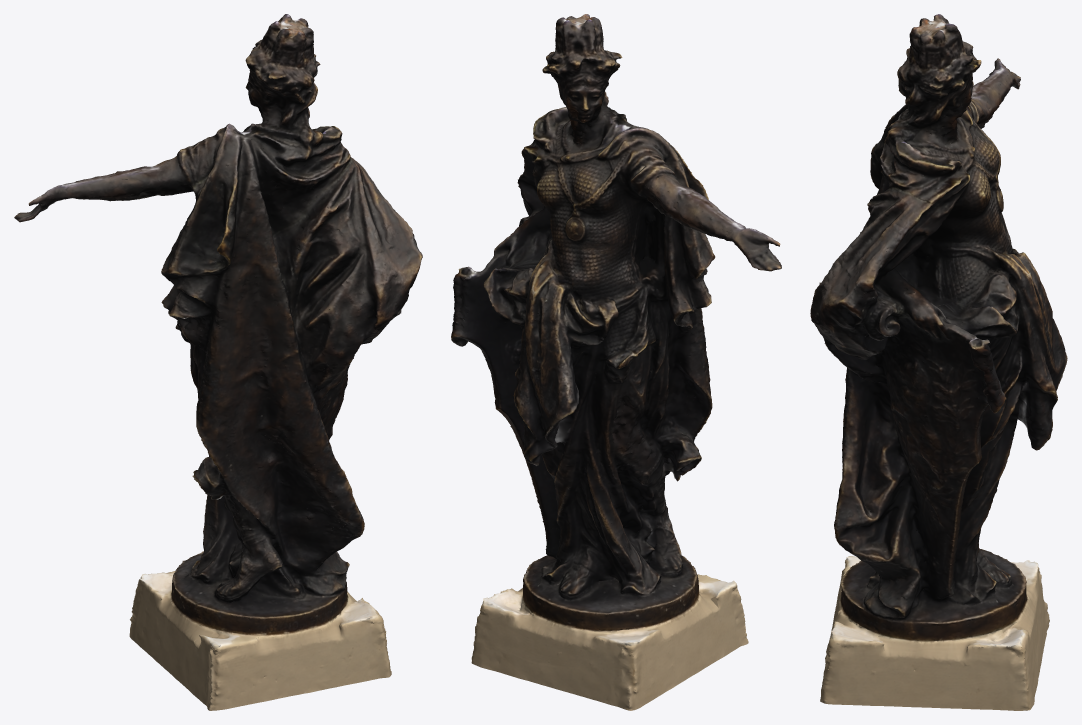
The model's file is berolina_berlin-alexanderplatz.glb.
3 renders of one model, left to right at view 1: azimuth 30°, elevation 25°; view 2: azimuth 150°, elevation 25°; view 3: azimuth 270°, elevation 25°, orthographic. The views are drawn at different scales.
Parts seen in each view (by area): view 1: Object_4, Object_2, Object_3, Object_5; view 2: Object_3, Object_4, Object_2, Object_5; view 3: Object_3, Object_4, Object_2, Object_5.
Boxes of the visible parts, bbox=[...] form: Object_4: bbox=[46, 14, 421, 710]; Object_2: bbox=[114, 30, 377, 702]; Object_3: bbox=[14, 67, 422, 658]; Object_5: bbox=[164, 16, 418, 706]; Object_3: bbox=[453, 19, 781, 707]; Object_4: bbox=[453, 14, 758, 710]; Object_2: bbox=[451, 18, 744, 710]; Object_5: bbox=[451, 24, 747, 703]; Object_3: bbox=[811, 30, 1067, 710]; Object_4: bbox=[810, 14, 1052, 709]; Object_2: bbox=[822, 38, 1057, 697]; Object_5: bbox=[822, 16, 1050, 709].
Bounding box in the file's own units: 29.99 × 52.96 × 18.74.
Materials: 1 (1 with a texture image).
